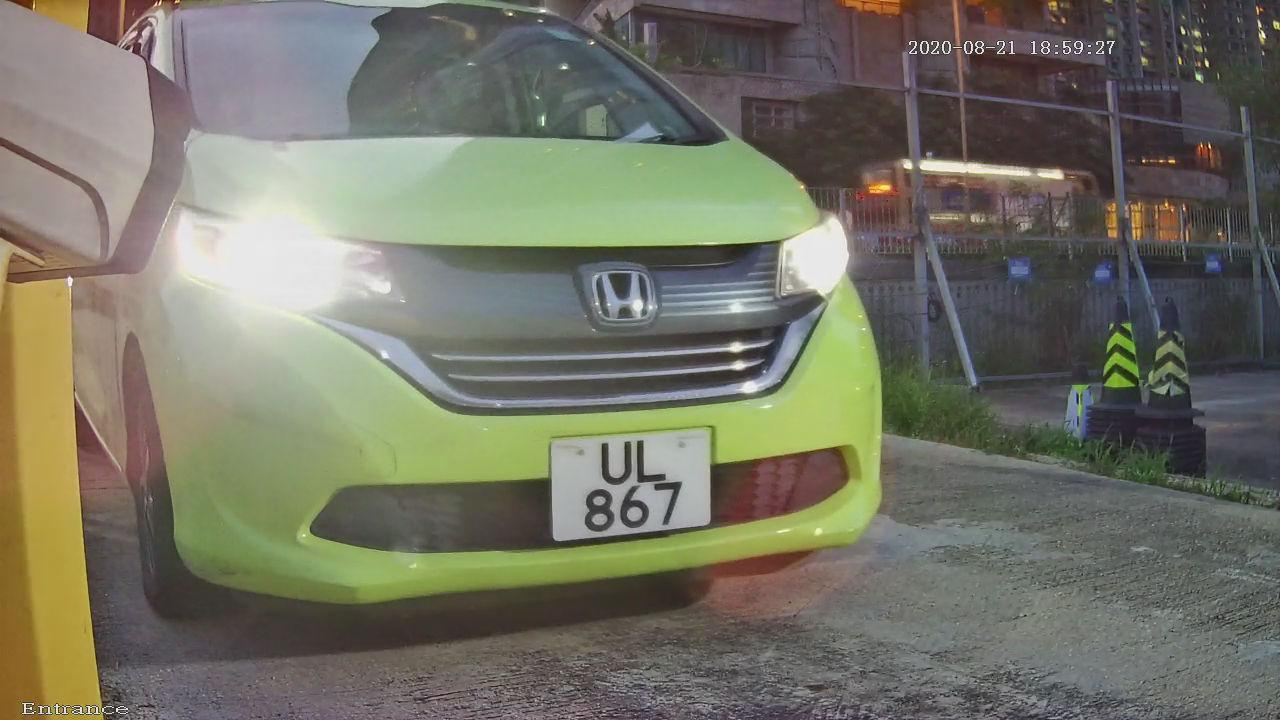Car: (1, 1, 966, 669)
License Plate: (532, 412, 726, 553)
